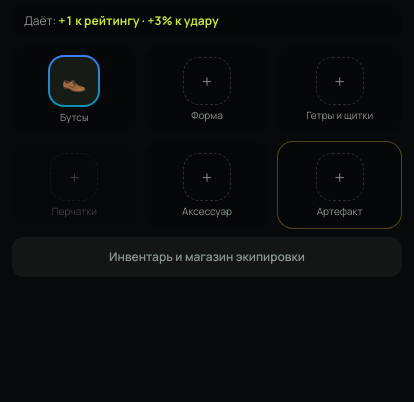
Scenario: CardEquipmentPanel › offers free inventory things for a slot
The width and height of the screenshot is (414, 402).
Step 1. Click the text "Форма" → (207, 115), box [191,109,223,121]
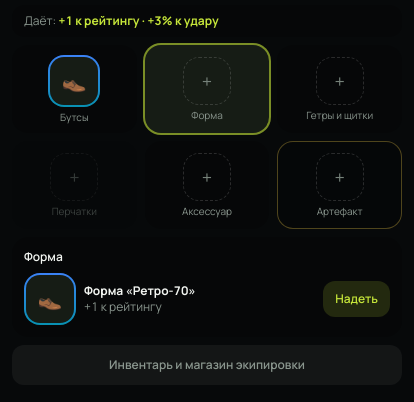
Result: the text "Форма «Ретро-70»" is shown at [84,282,196,299]
Result: the button "Надеть" is shown at [323,281,390,317]
